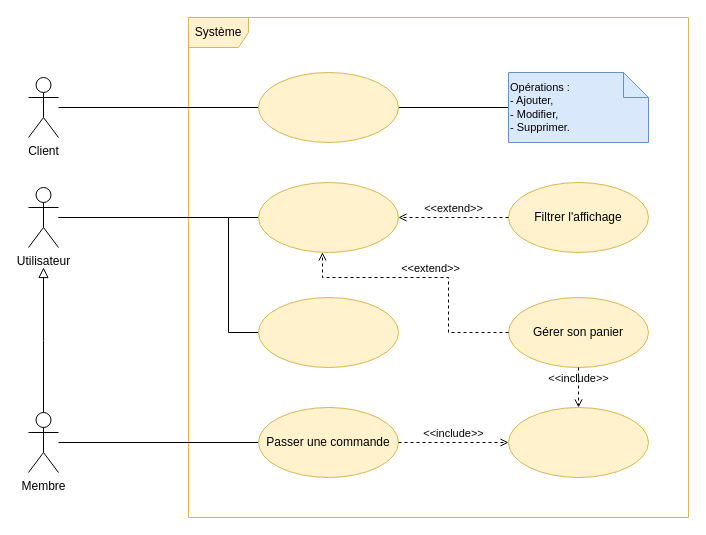
Some shapes in this 706 by 535 pixel diagram are drawn without their labels. Each missing label, with the centre of its shape:
"Afficher les formations" belongs at point 328,217.
"Gérer ses formations" belongs at point 328,107.
"S'inscrire" belongs at point 328,332.
"Se connecter" belongs at point 578,442.
